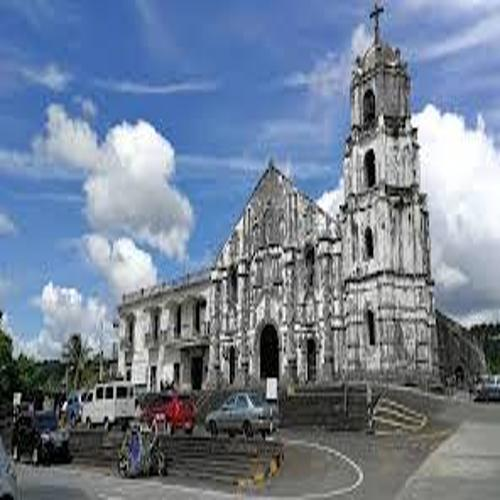Daraga Church: (214, 5, 441, 399)
